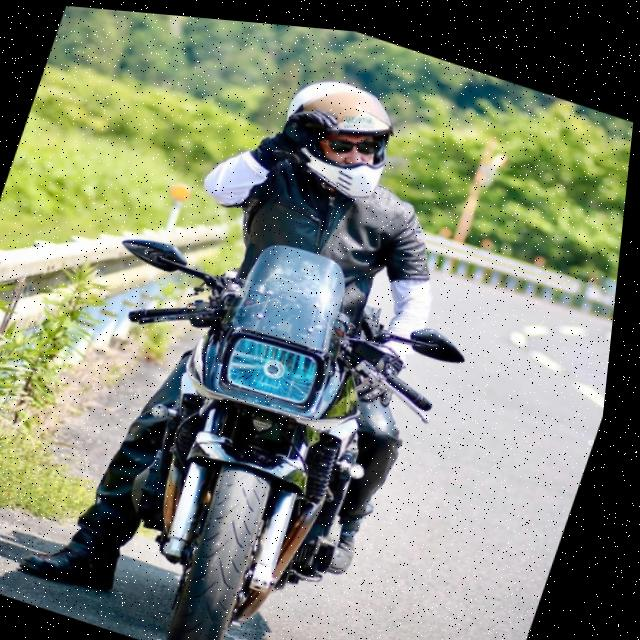helmet: (261, 54, 416, 206)
